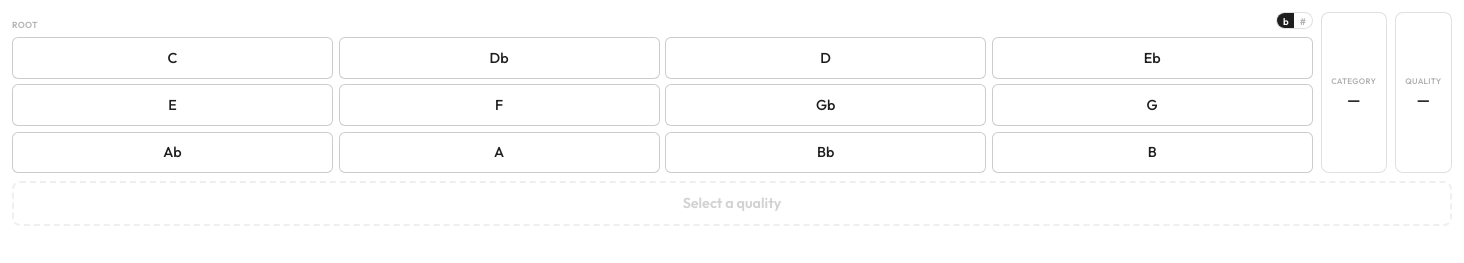
Test case: ChordSelector — stepping mode › clicking a root advances to step 2 and shows root in summary
The width and height of the screenshot is (1464, 263).
Click the button "E".
click(172, 105)  # box [12, 84, 333, 126]
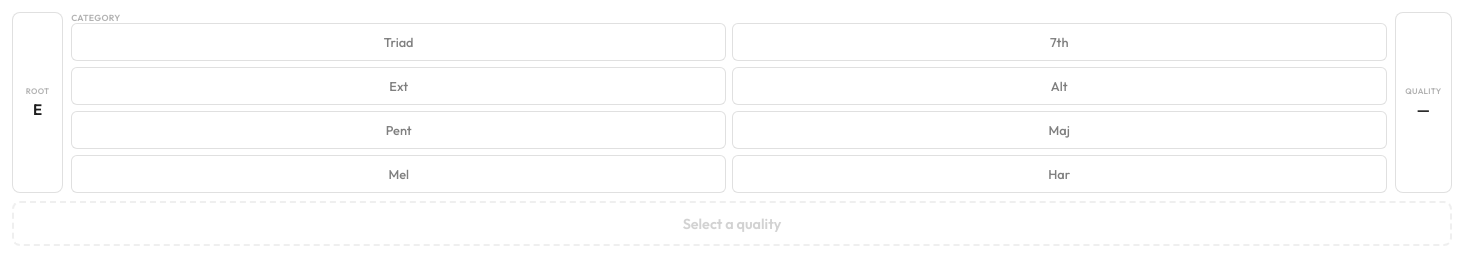
Expected: the text "E" is shown, [33, 100, 42, 119]
Now the button with class "chord-tab" showing "Triad" is shown, box [71, 23, 726, 61]
